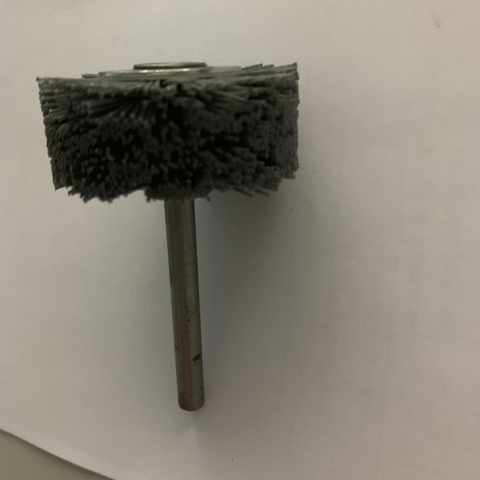Wheel Brush: (32, 77, 343, 418), (45, 47, 302, 435), (40, 35, 293, 412), (66, 74, 277, 426)
